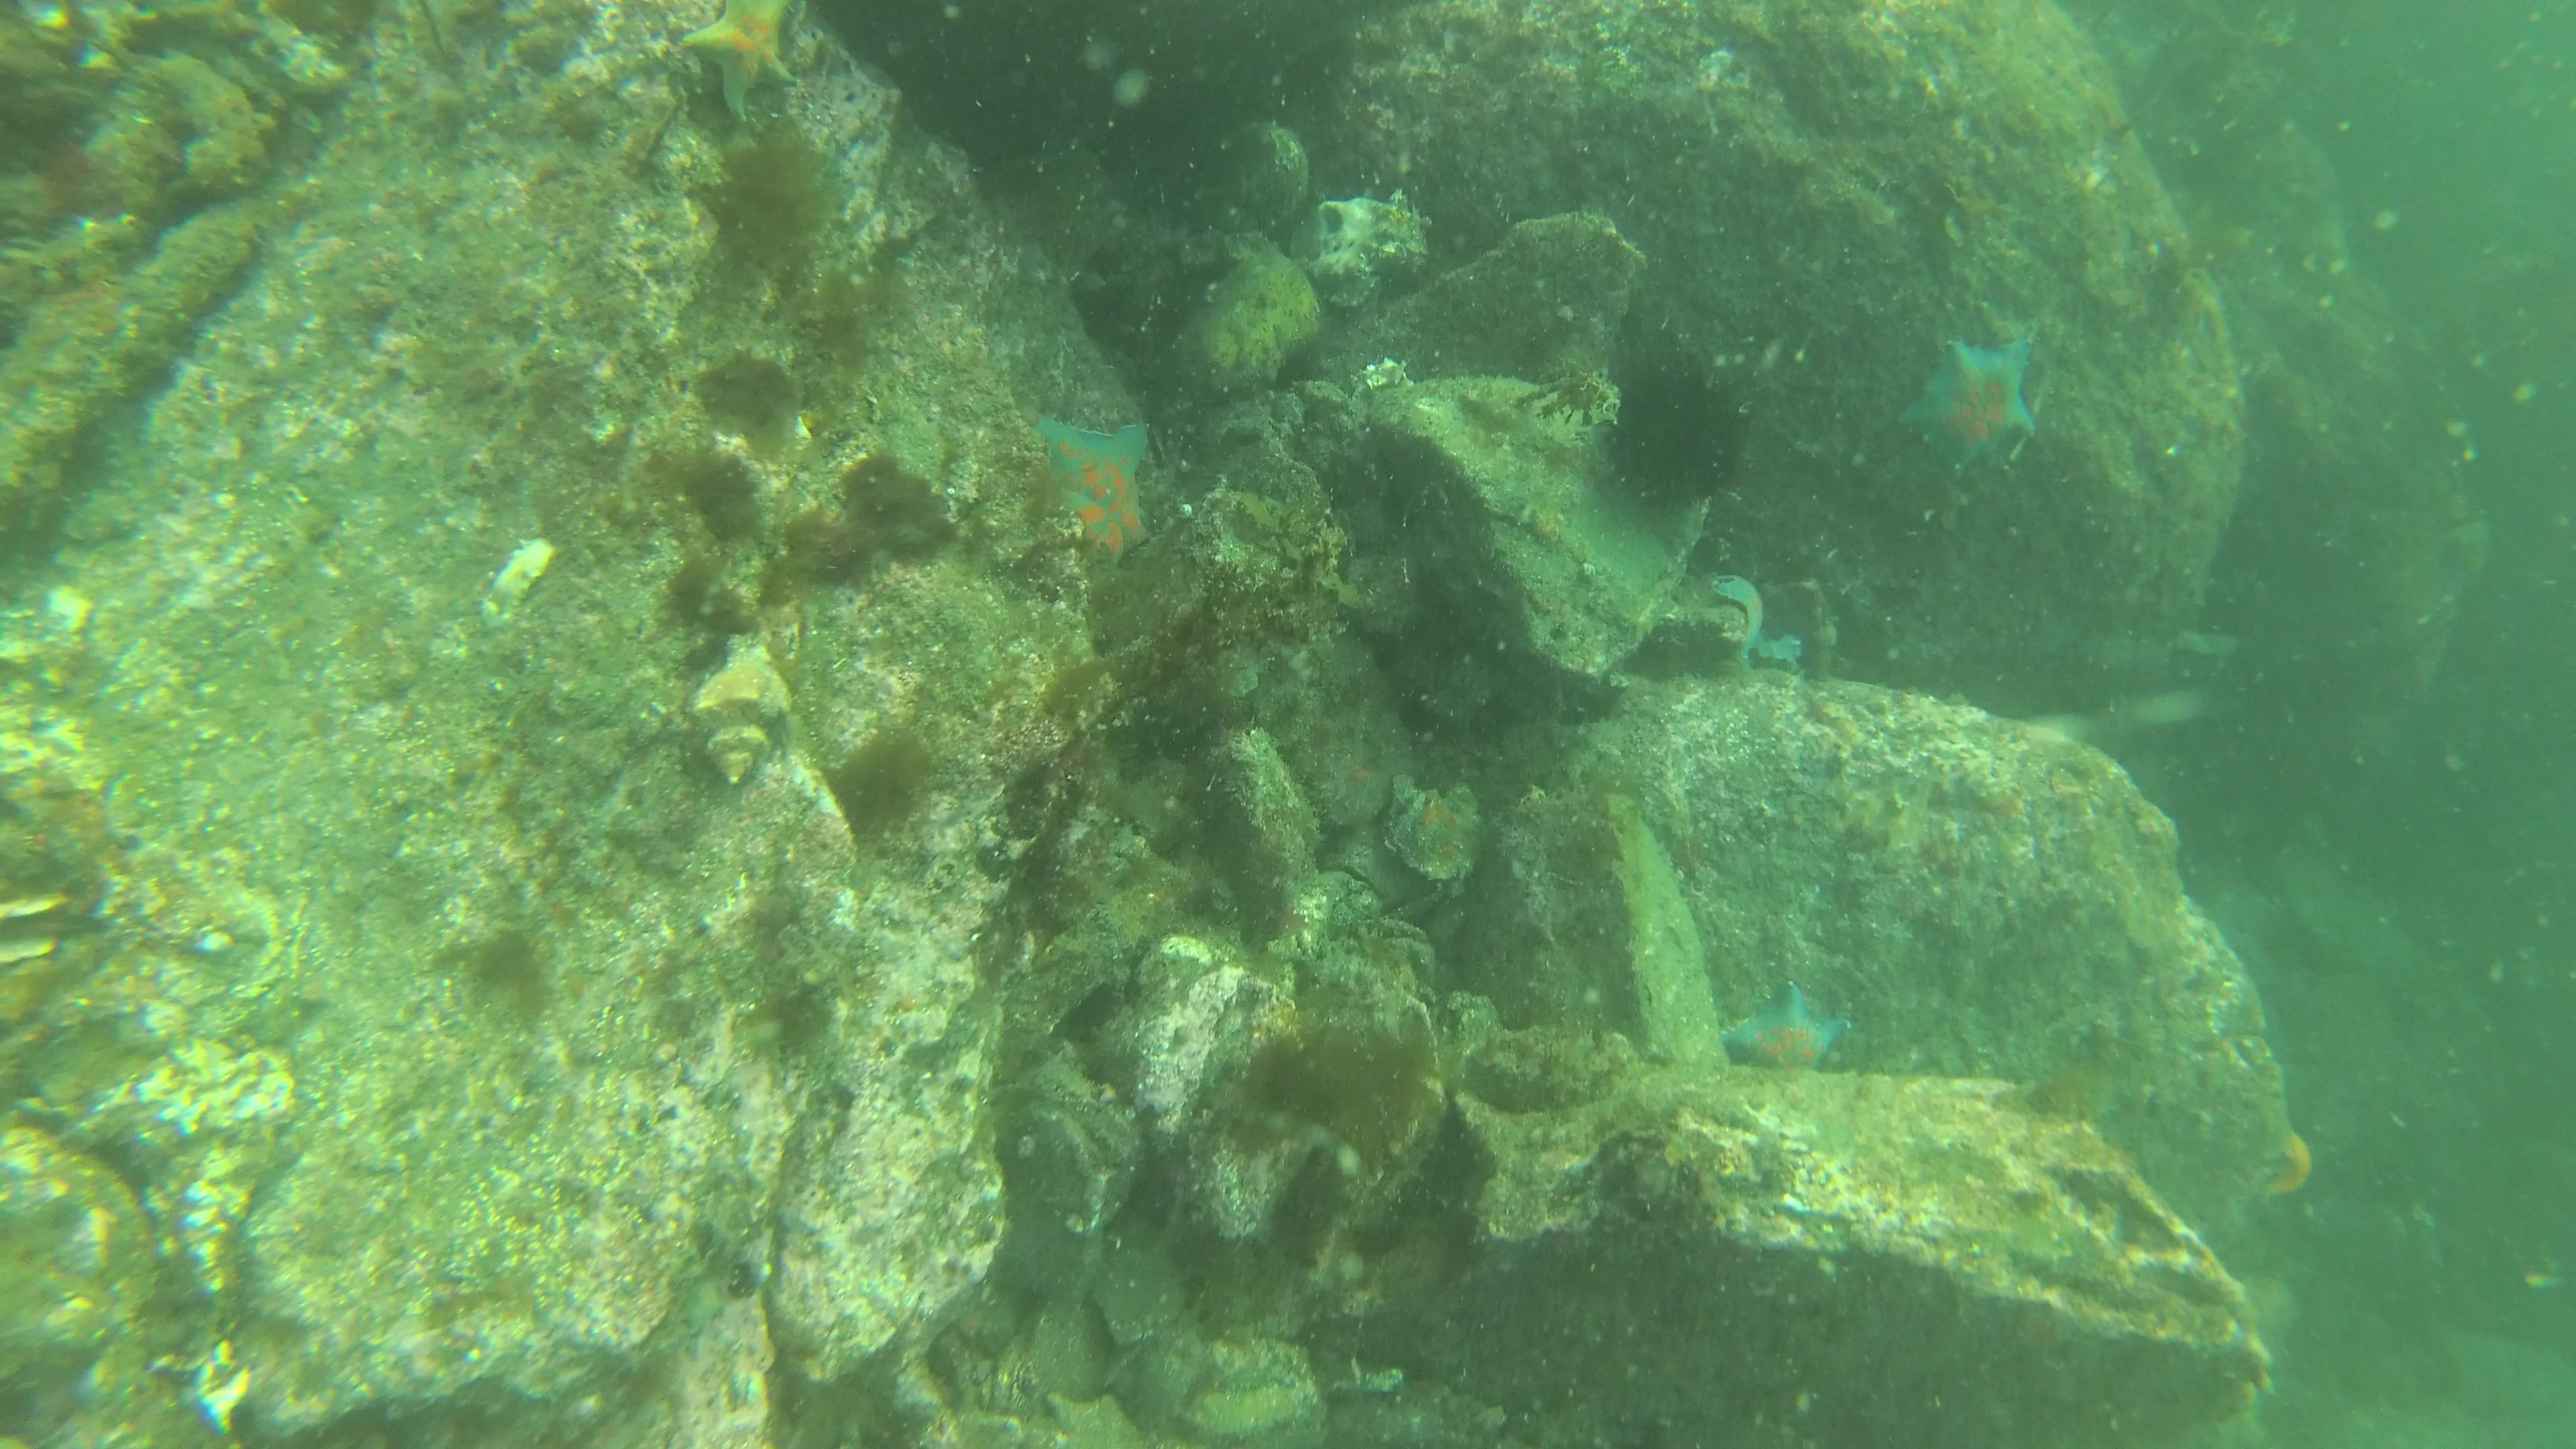echinus: (1603, 356, 1750, 518)
starfish: (1037, 410, 1161, 568), (1911, 331, 2040, 471), (1718, 985, 1854, 1083), (688, 2, 794, 124), (1706, 566, 1782, 674)
